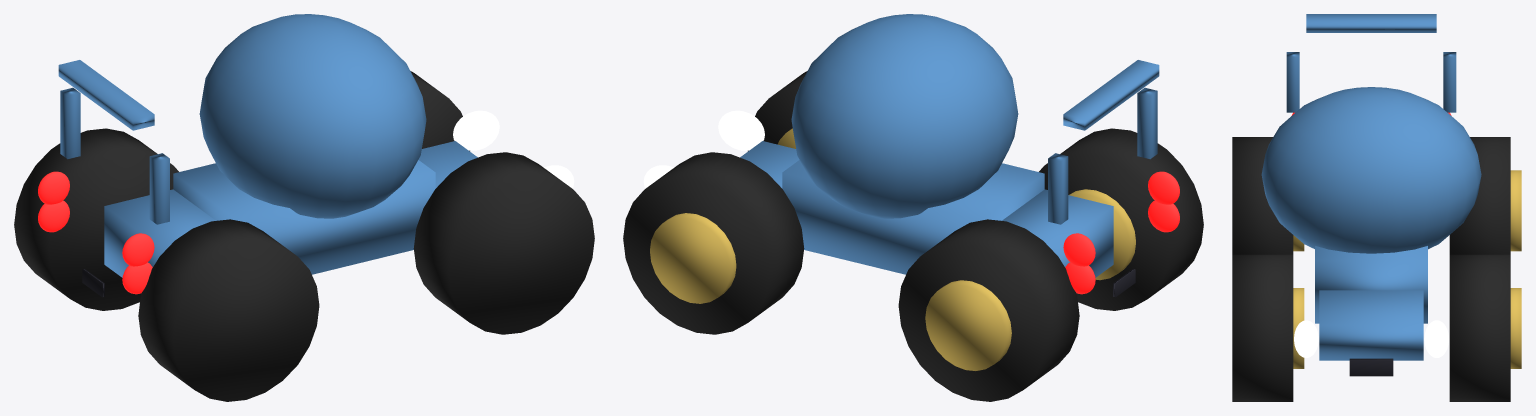
Rendered from r34_chibi.glb.
The picture shows the model from 3 angles, left to right: view 1: azimuth 30°, elevation 25°; view 2: azimuth 150°, elevation 25°; view 3: azimuth 270°, elevation 25°; orthographic projection. The views are drawn at different scales.
Parts seen in each view (by area): view 1: cabin, tire_16.0_-12.5, tire_-16.0_-12.5, tire_-16.0_12.5, body, rear, wing, tire_16.0_12.5, headlight.001, wingpost_9, wingpost_-9, hood (+4 smaller); view 2: cabin, tire_16.0_12.5, tire_-16.0_12.5, tire_-16.0_-12.5, body, rim_-16.0_12.5, rim_16.0_12.5, rear, wing, rim_-16.0_-12.5, tire_16.0_-12.5, headlight (+7 smaller); view 3: cabin, tire_16.0_12.5, tire_16.0_-12.5, hood, tire_-16.0_-12.5, tire_-16.0_12.5, body, wing, rim_-16.0_12.5, rim_16.0_12.5, grille, wingpost_-9 (+4 smaller).
Boxes of the visible parts, x1=… form: cabin: x1=199, y1=14, x2=426, y2=218; tire_16.0_-12.5: x1=413, y1=152, x2=594, y2=334; tire_-16.0_-12.5: x1=138, y1=219, x2=319, y2=401; tire_-16.0_12.5: x1=14, y1=128, x2=178, y2=310; body: x1=173, y1=160, x2=435, y2=274; rear: x1=104, y1=189, x2=215, y2=277; wing: x1=58, y1=60, x2=154, y2=130; tire_16.0_12.5: x1=410, y1=71, x2=469, y2=151; headlight.001: x1=453, y1=110, x2=499, y2=150; wingpost_9: x1=60, y1=87, x2=80, y2=159; wingpost_-9: x1=149, y1=153, x2=169, y2=224; hood: x1=418, y1=141, x2=477, y2=188; cabin: x1=791, y1=14, x2=1018, y2=218; tire_16.0_12.5: x1=623, y1=152, x2=804, y2=334; tire_-16.0_12.5: x1=898, y1=219, x2=1079, y2=401; tire_-16.0_-12.5: x1=1039, y1=128, x2=1203, y2=310; body: x1=782, y1=160, x2=1044, y2=274; rim_-16.0_12.5: x1=925, y1=280, x2=1011, y2=370; rim_16.0_12.5: x1=650, y1=213, x2=736, y2=303; rear: x1=1002, y1=189, x2=1113, y2=277; wing: x1=1063, y1=60, x2=1159, y2=130; rim_-16.0_-12.5: x1=1069, y1=189, x2=1135, y2=280; tire_16.0_-12.5: x1=748, y1=71, x2=807, y2=151; headlight: x1=718, y1=110, x2=764, y2=150; cabin: x1=1261, y1=87, x2=1481, y2=253; tire_16.0_12.5: x1=1449, y1=254, x2=1510, y2=401; tire_16.0_-12.5: x1=1232, y1=254, x2=1293, y2=401; hood: x1=1319, y1=290, x2=1423, y2=360; tire_-16.0_-12.5: x1=1232, y1=137, x2=1293, y2=254; tire_-16.0_12.5: x1=1449, y1=137, x2=1510, y2=254; body: x1=1315, y1=246, x2=1427, y2=323; wing: x1=1306, y1=14, x2=1436, y2=32; rim_-16.0_12.5: x1=1510, y1=170, x2=1521, y2=251; rim_16.0_12.5: x1=1510, y1=288, x2=1521, y2=368; grille: x1=1349, y1=358, x2=1393, y2=376; wingpost_-9: x1=1286, y1=52, x2=1299, y2=112.
Size of the model in its own units: 52.9 by 30.9 by 33.25.
